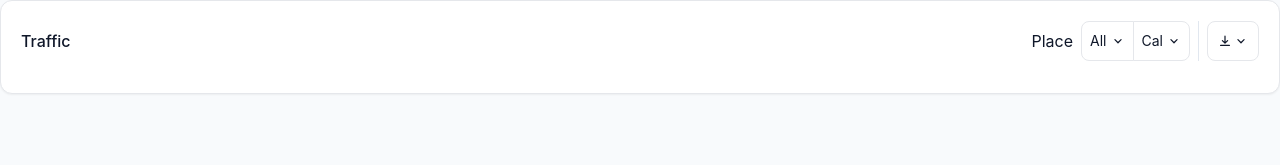
ChartDownloadMenu › downloads the chosen format and keeps the title beside the controls
What coordinates should you click on to do the following:
click the button named "Download"
I would click on:
 (1233, 41)
Its box is x1=1207 y1=21 x2=1259 y2=61.
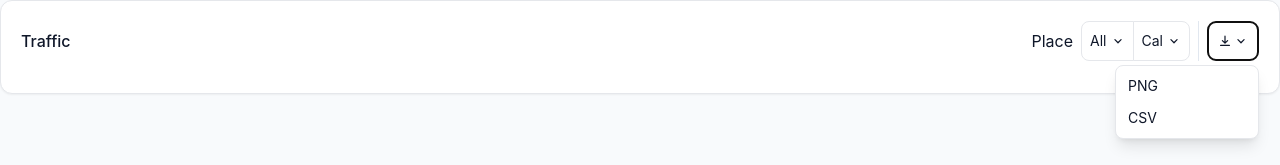
What coordinates should you click on to do the following:
click the menu item "PNG"
I would click on:
 (1187, 86)
Its box is x1=1116 y1=70 x2=1258 y2=102.
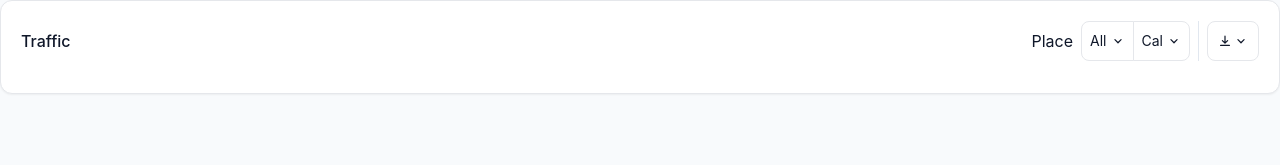
Now the menu is gone
What coordinates should you click on to do the following:
click the button named "Download"
I would click on:
 (1233, 41)
Its box is x1=1207 y1=21 x2=1259 y2=61.
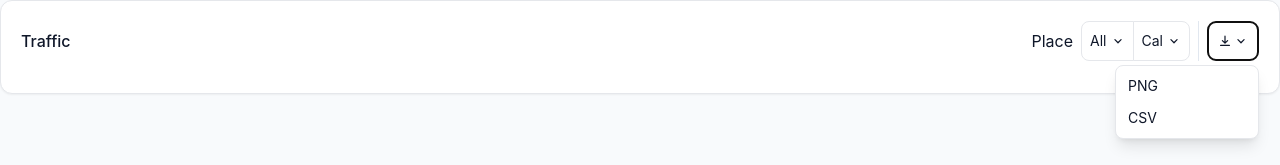
What coordinates should you click on to do the following:
click the menu item "CSV"
I would click on:
 (1187, 118)
Its box is x1=1116 y1=102 x2=1258 y2=134.
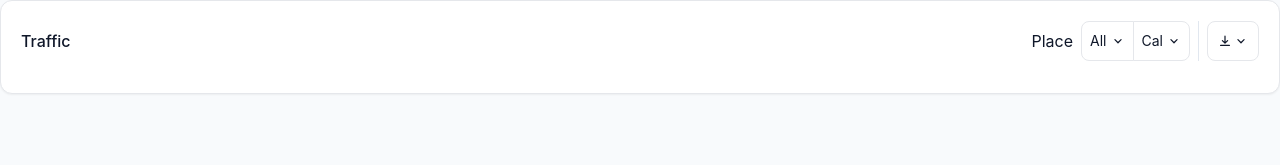
Now the menu is gone
